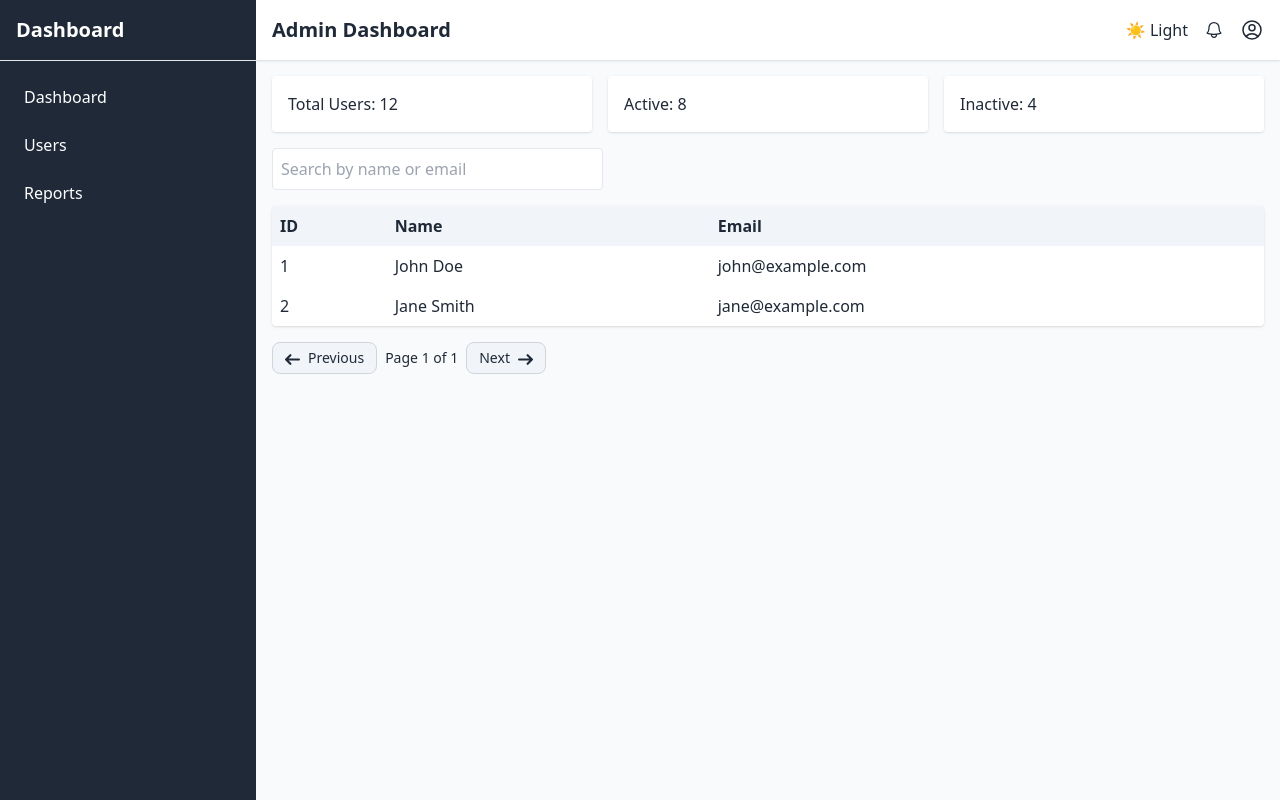
Test: Dashboard › filters users based on search input
Type "Jane" into the field with placeholder "Search by name or email" at (437, 169), box [272,148,603,190]
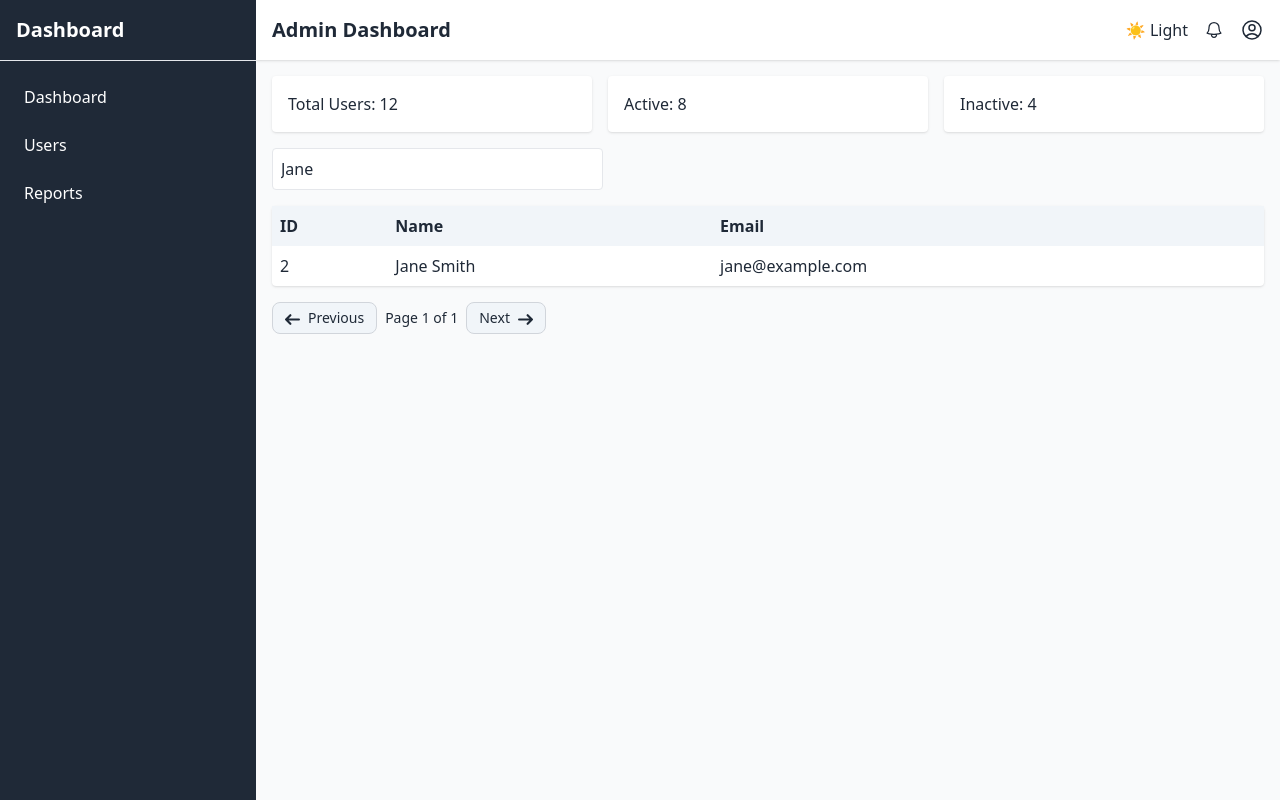
Check: the table with test id "datatable" shows "Jane", box [395,255,428,277]
Check: the table with test id "datatable" no longer shows "John", box [272,206,1264,286]
